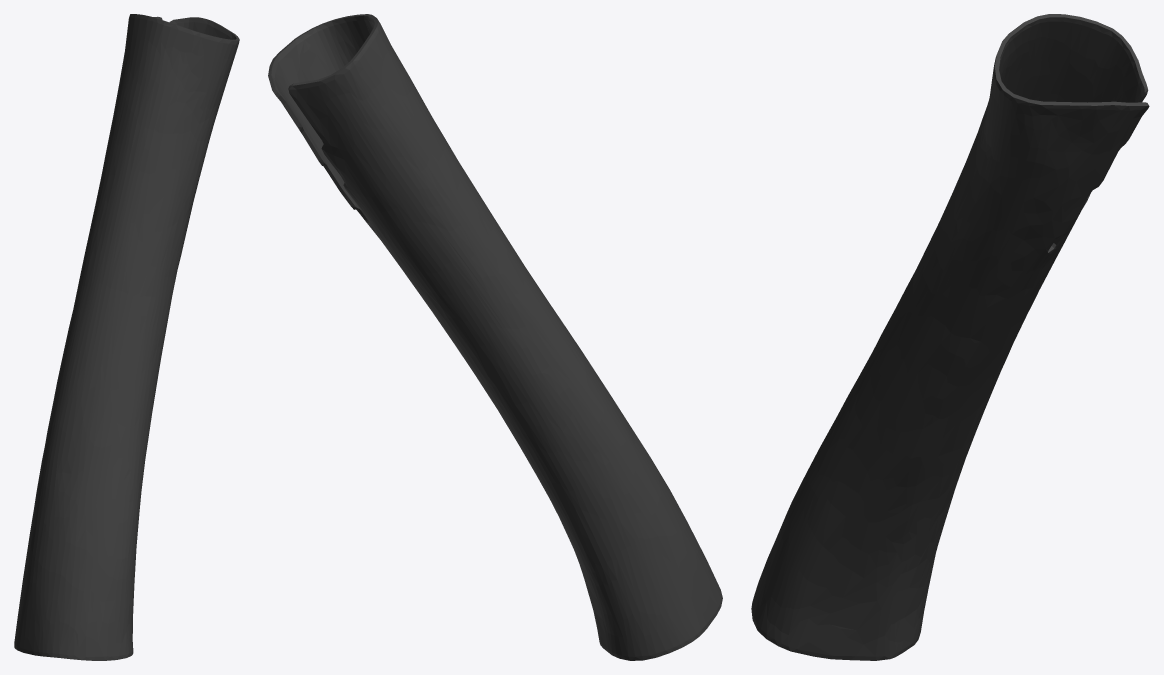
Rendered from Femur_body.glb.
3 renders of one model, left to right at view 1: azimuth 30°, elevation 25°; view 2: azimuth 150°, elevation 25°; view 3: azimuth 270°, elevation 25°, orthographic. The views are drawn at different scales.
Parts seen in each view (by area): view 1: Femur_body; view 2: Femur_body; view 3: Femur_body.
Part boxes in pixels (x1,y1,x2,y2): Femur_body: [14, 14, 239, 660]; Femur_body: [268, 14, 722, 660]; Femur_body: [751, 14, 1149, 660].
Size of the model in its own units: 0.0921 by 0.1687 by 0.0831.
1 material, 1 textured.
